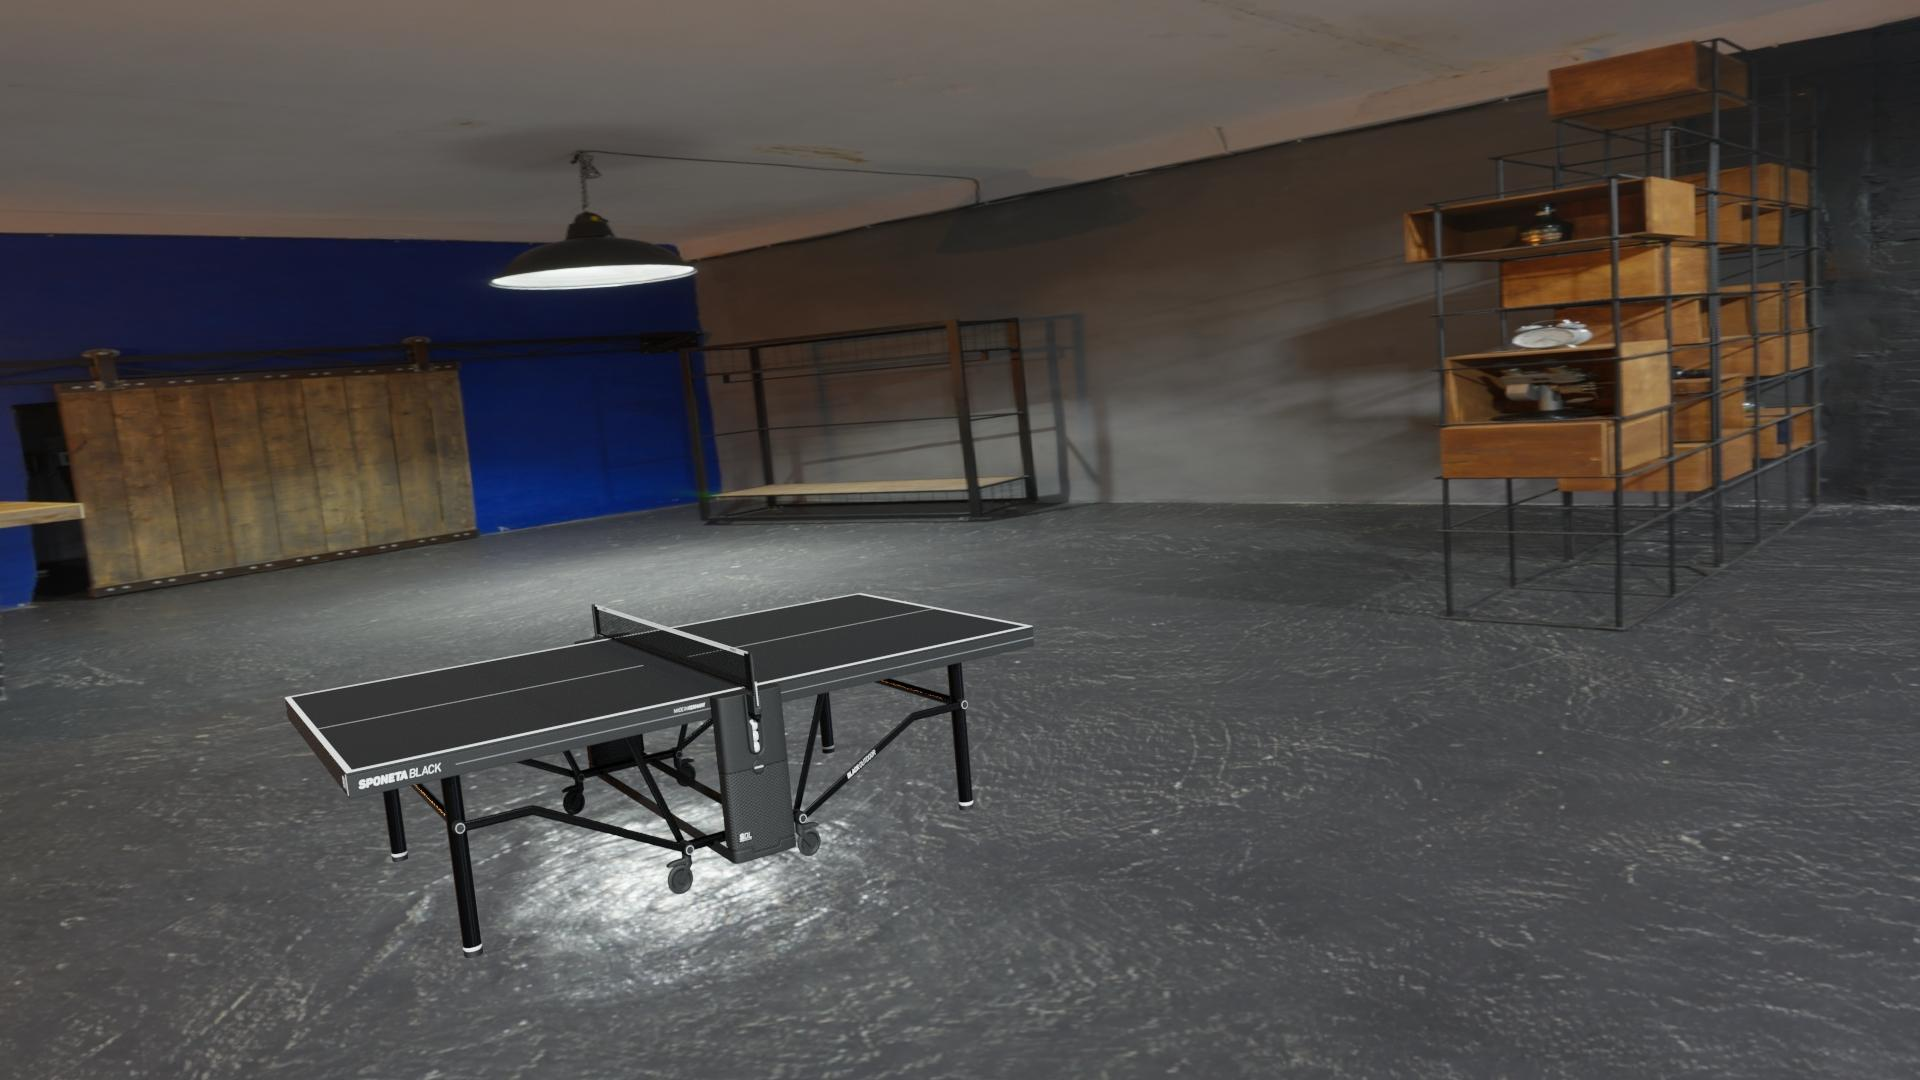table: (290, 595, 1026, 770)
